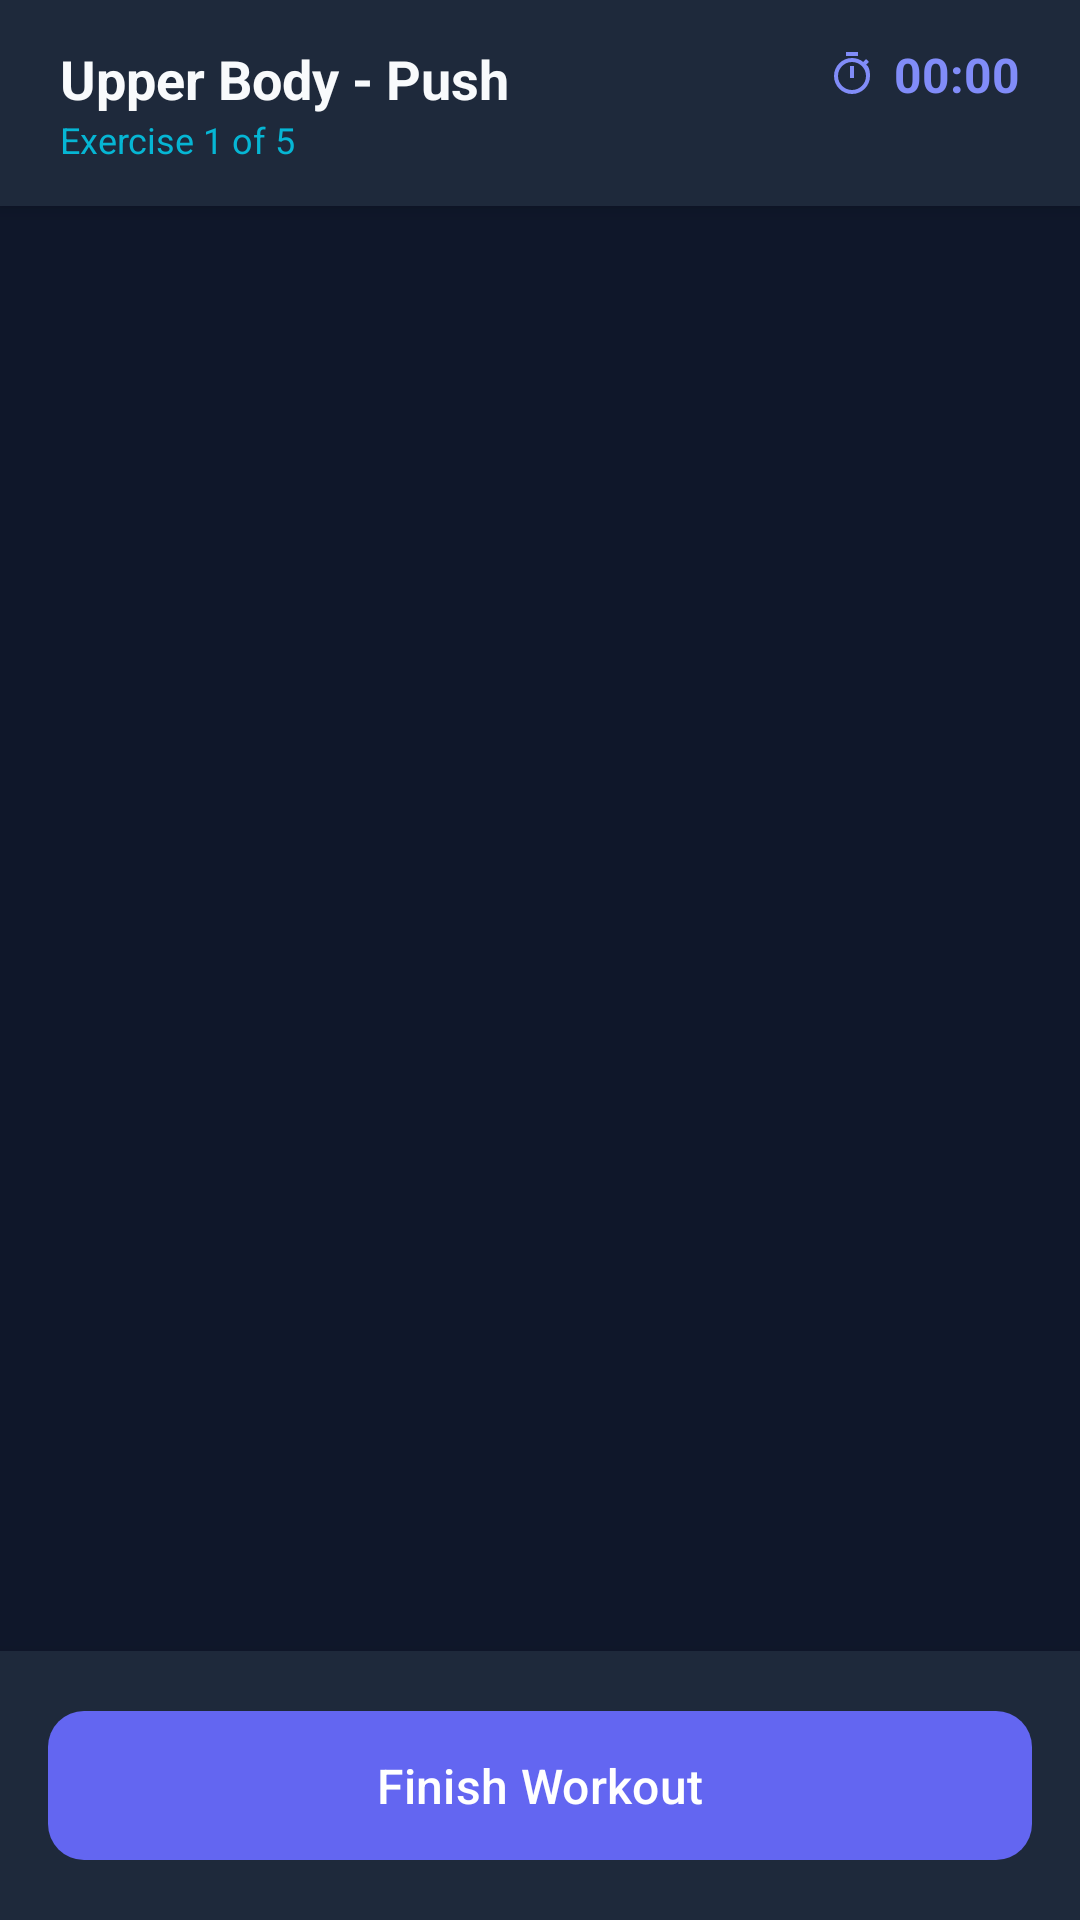

Screen size 1080x1920. Icon name, then its center in pixels as (x=x, y=y):
timer: (x=852, y=73)
